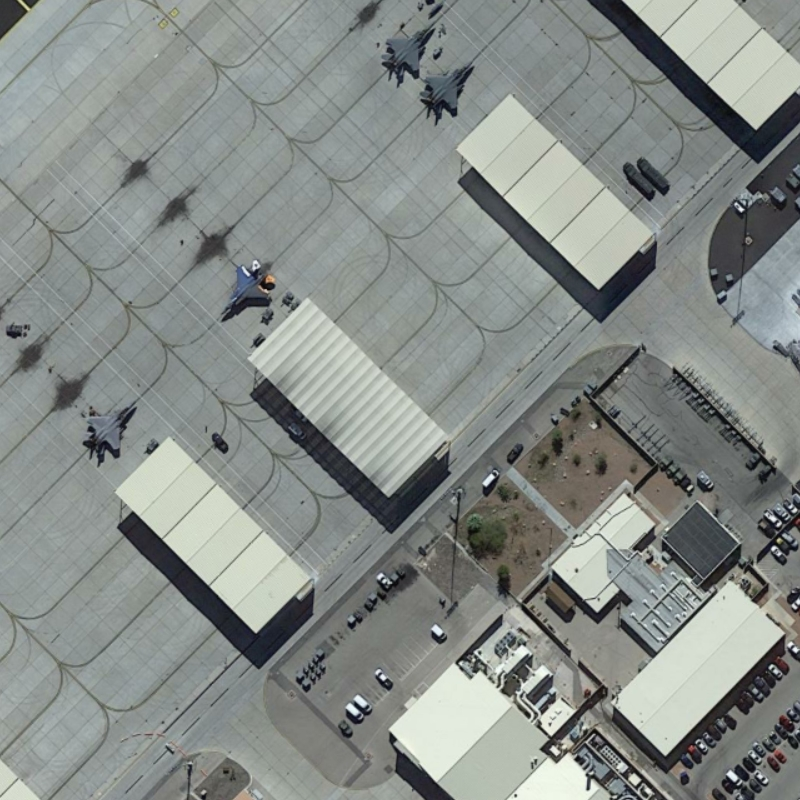A13: (80, 395, 143, 458), (418, 56, 478, 120), (380, 20, 438, 80), (216, 261, 270, 320)
